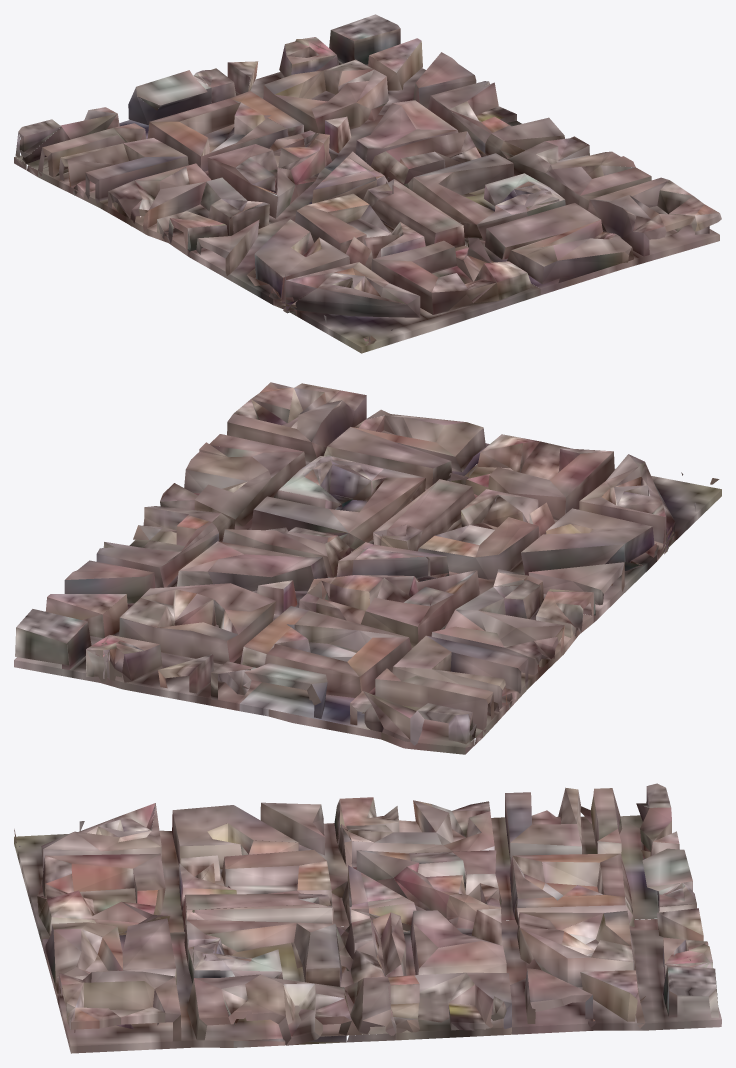
3 renders of one model, top to bottom at view 1: azimuth 30°, elevation 25°; view 2: azimuth 150°, elevation 25°; view 3: azimuth 270°, elevation 25°, orthographic. The views are drawn at different scales.
Visible parts, largest first — view 1: Mesh_0; view 2: Mesh_0; view 3: Mesh_0.
Boxes of the visible parts, bbox=[...] form: Mesh_0: bbox=[14, 14, 721, 353]; Mesh_0: bbox=[14, 382, 721, 754]; Mesh_0: bbox=[14, 783, 721, 1053].
Size of the model in its own units: 535 by 56.9 by 659.
2 materials, 2 textured.
